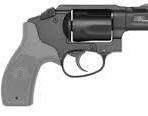gun: (1, 1, 148, 116)
